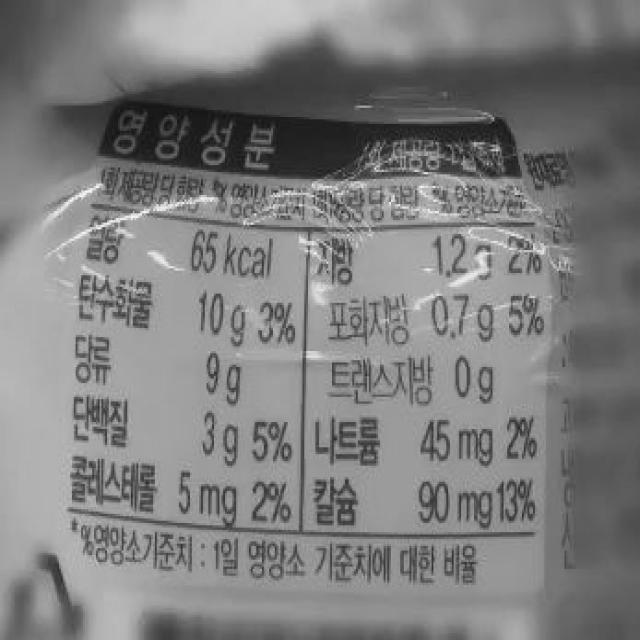Nutrition Label: (62, 74, 553, 614)
